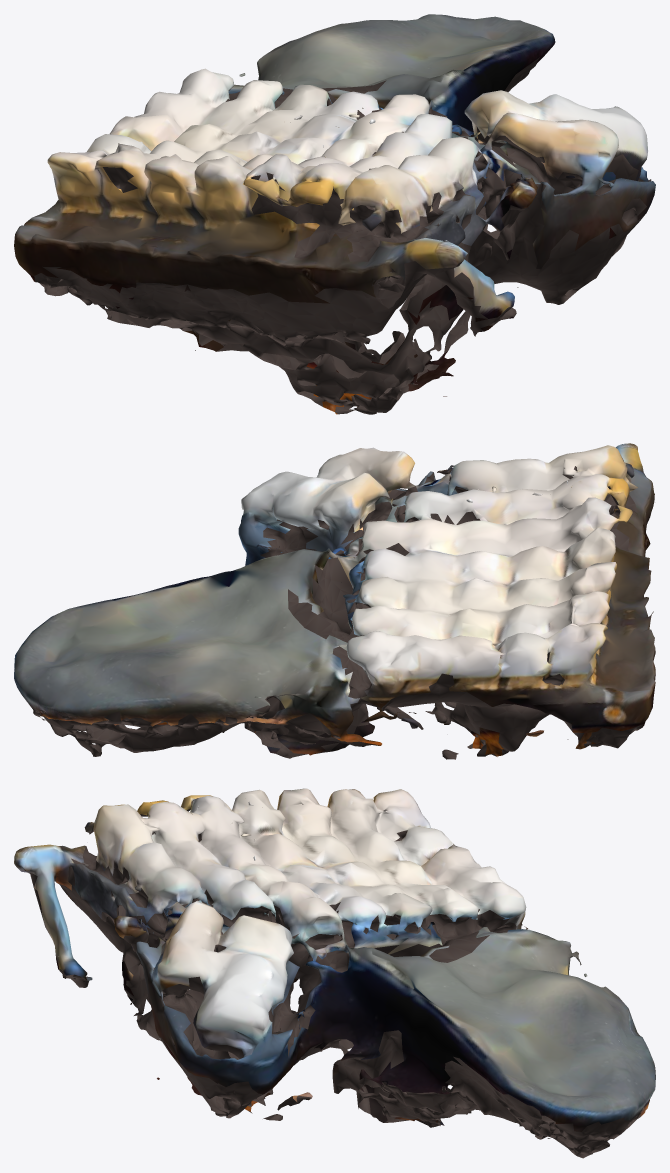
The model's file is mesh_lowpoly.obj.
3 views of the same model, one above another, from view 1: azimuth 30°, elevation 25°; view 2: azimuth 150°, elevation 25°; view 3: azimuth 270°, elevation 25° (orthographic). The views are drawn at different scales.
Parts seen in each view (by area): view 1: mesh_lowpoly; view 2: mesh_lowpoly; view 3: mesh_lowpoly.
Part boxes in pixels (<box>): mesh_lowpoly: <box>14,14,655,414</box>; mesh_lowpoly: <box>14,443,655,759</box>; mesh_lowpoly: <box>14,788,655,1158</box>.
Bounding box in the file's own units: 1.8 × 0.8743 × 1.82.
2 materials, 2 textured.
